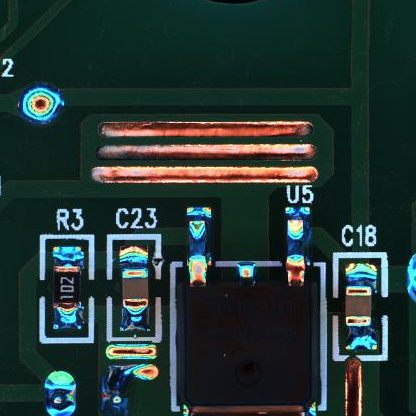spot: (17, 83, 63, 128), (43, 371, 76, 416)
